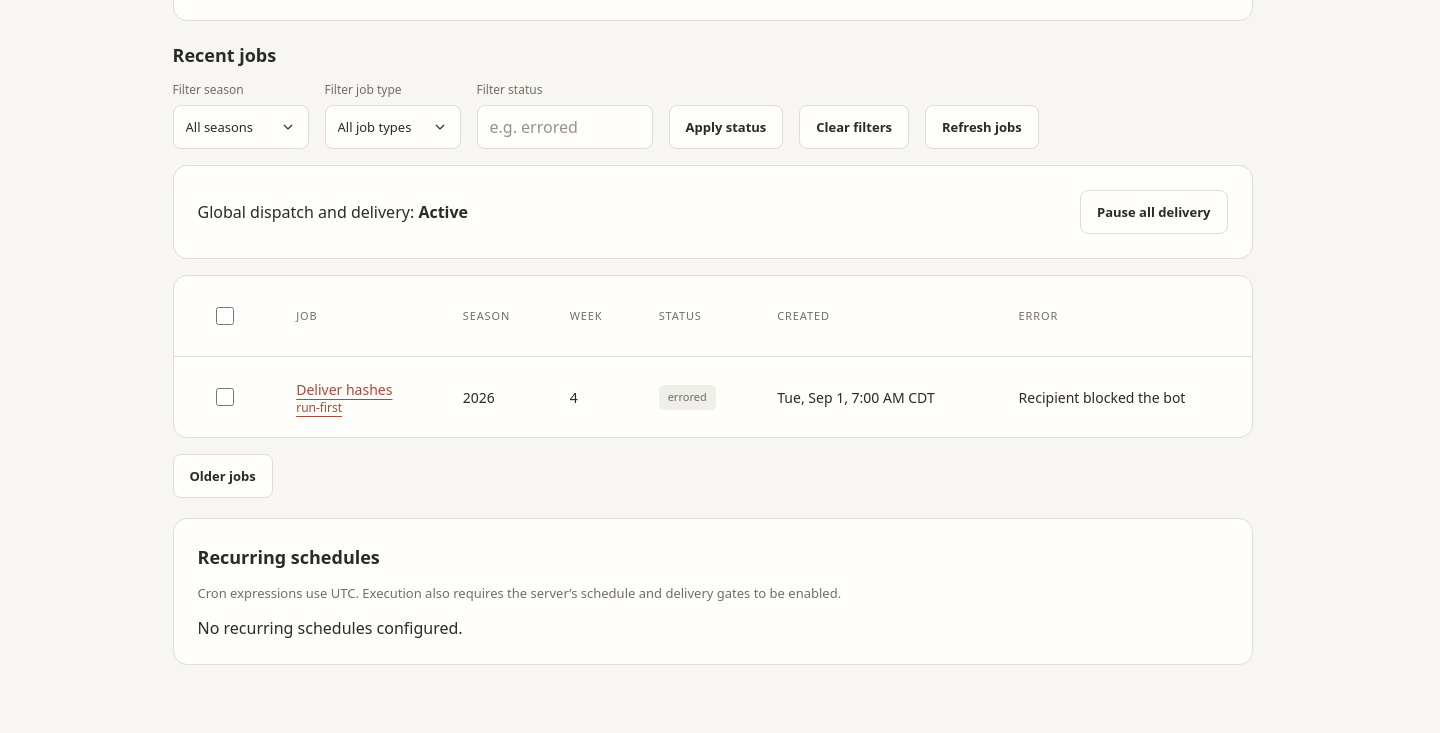
Scenario: job operations › paginates with a stable run cursor and resets pagination when filtering seasons
(page scrolled)
Click the button "Older jobs". click: (223, 476)
box: top-left (172, 454), bottom-right (273, 498)
(page scrolled)
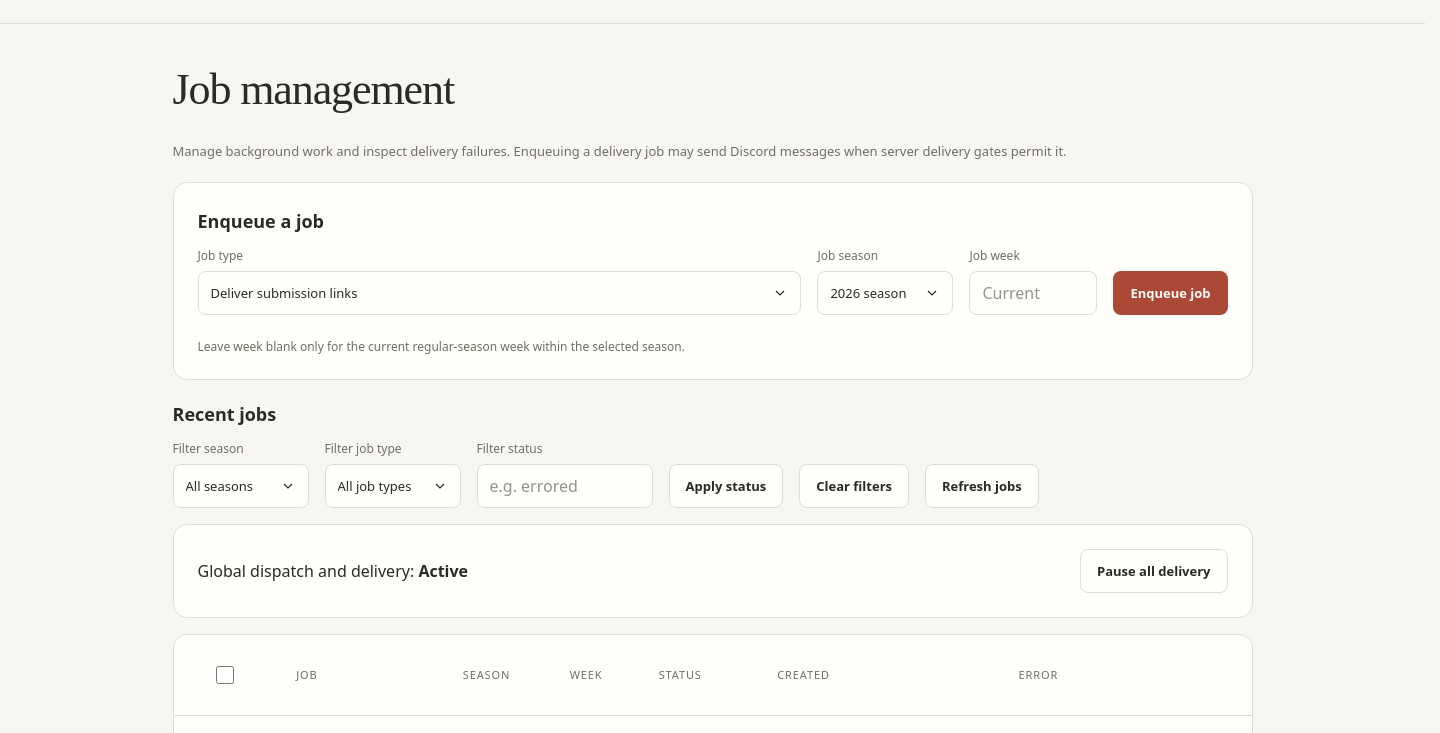
Click the dropdown named "Filter season". click: (240, 486)
box: top-left (172, 464), bottom-right (308, 508)
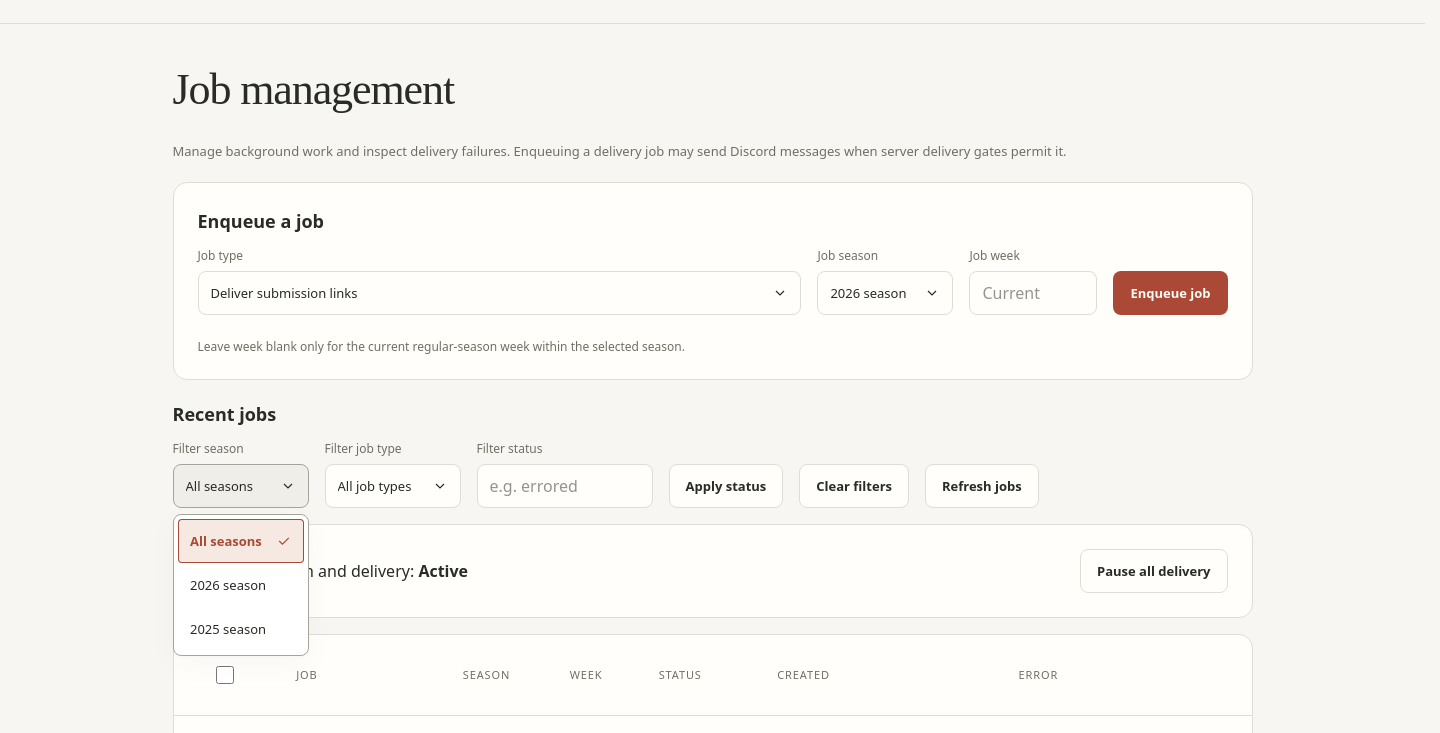
Click the option "2025 season". click: (228, 629)
box: top-left (190, 620), bottom-right (266, 638)
(page scrolled)
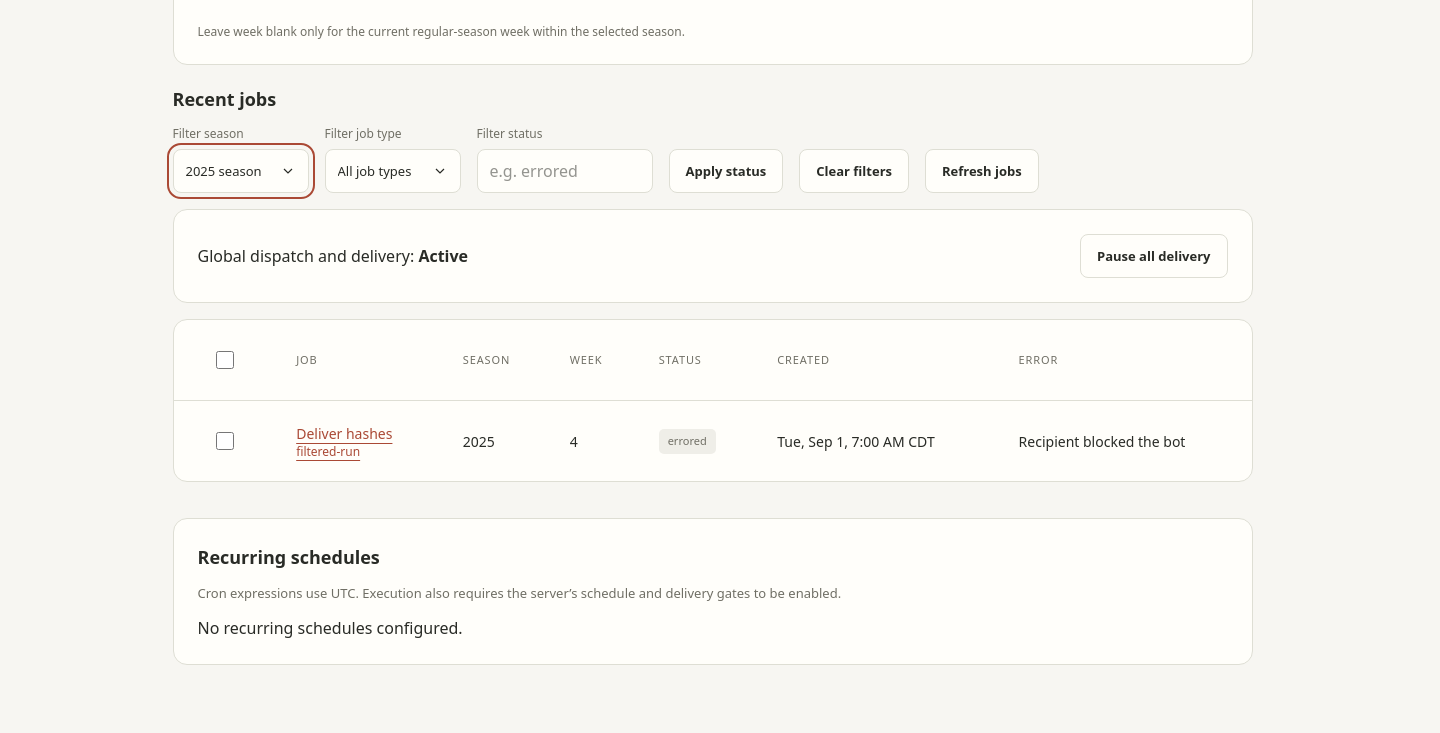
Check: the link "Deliver hashes filtered-run" is shown, box top-left (296, 419), bottom-right (392, 463)
